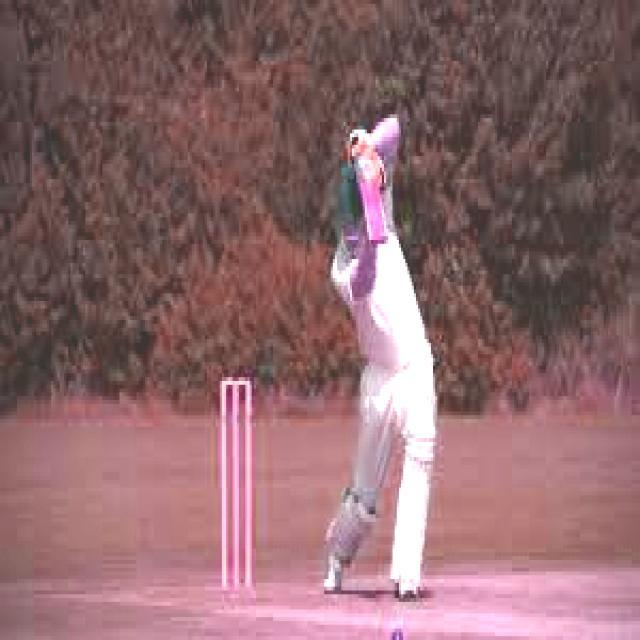bat: (350, 173, 401, 255)
toe: (366, 231, 389, 246)
